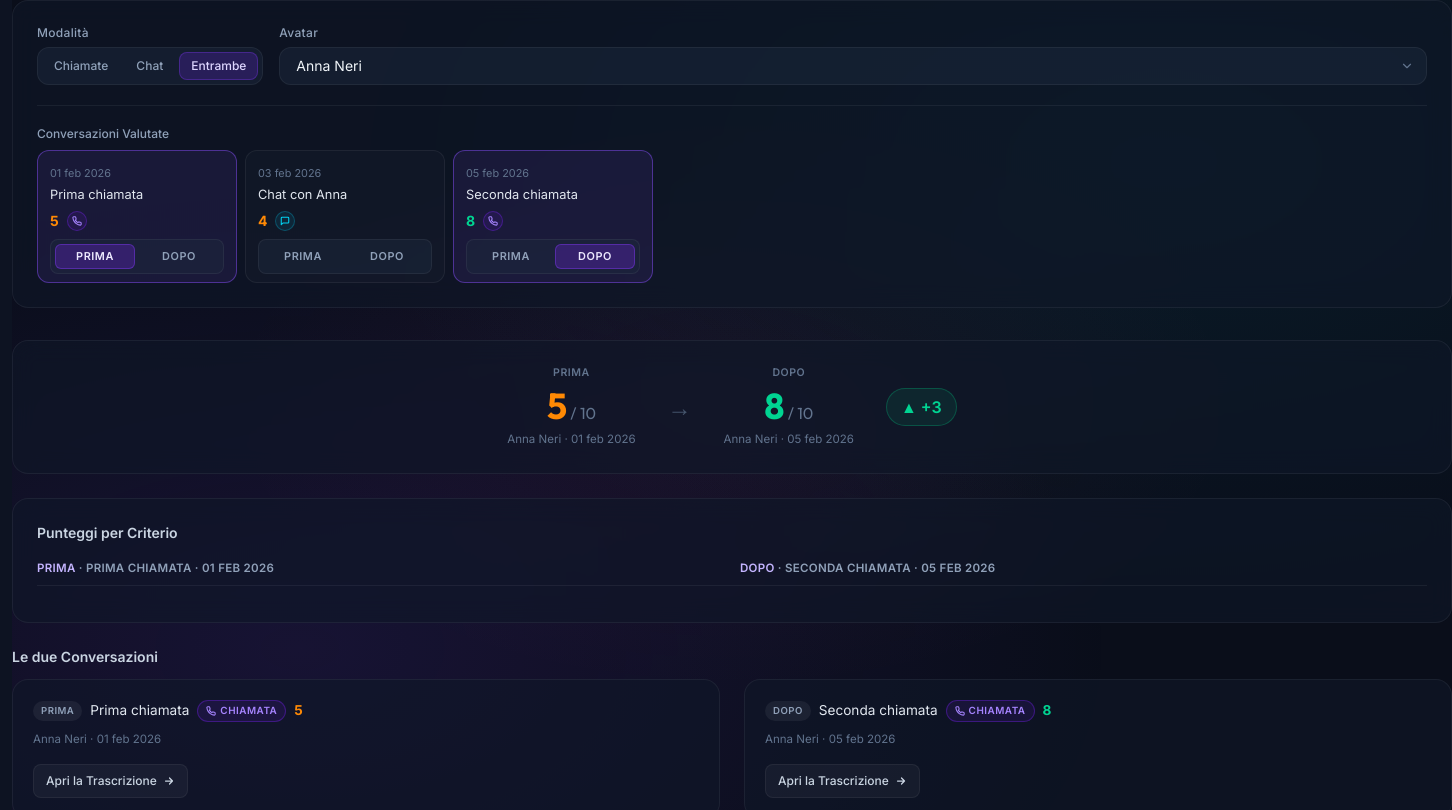
ComparisonConversations › avverte quando si affiancano due canali diversi
The width and height of the screenshot is (1452, 810).
Click the button "Dopo" below "Chat con Anna" at (387, 257), box [347,244,427,270]
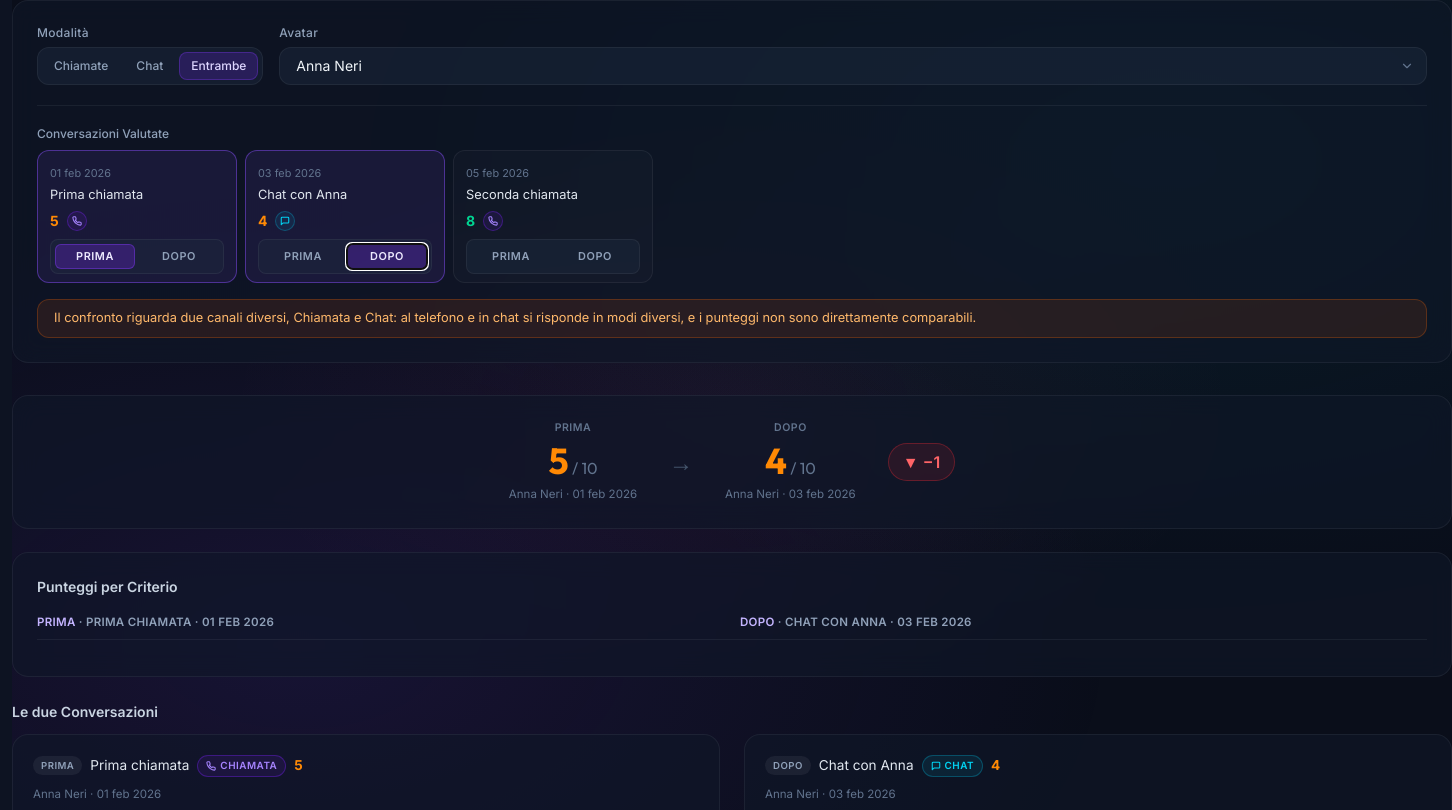
Now the text "due canali diversi" is shown, box [54,310,976,326]
